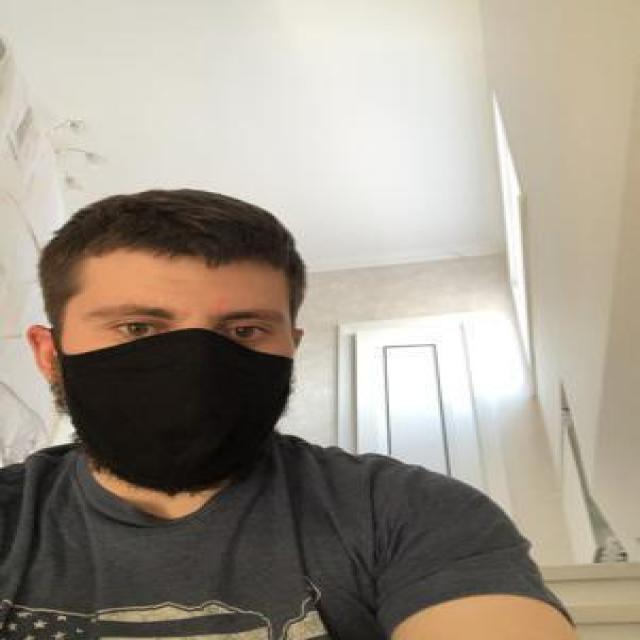face_mask: (55, 282, 296, 496)
head_nohelmet: (38, 192, 306, 280)
person: (0, 179, 608, 640)
